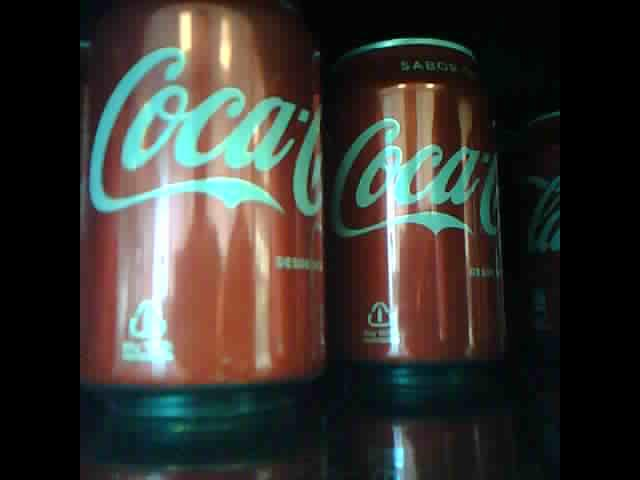coca cola: (79, 1, 329, 421), (331, 35, 509, 375), (509, 101, 559, 355)
